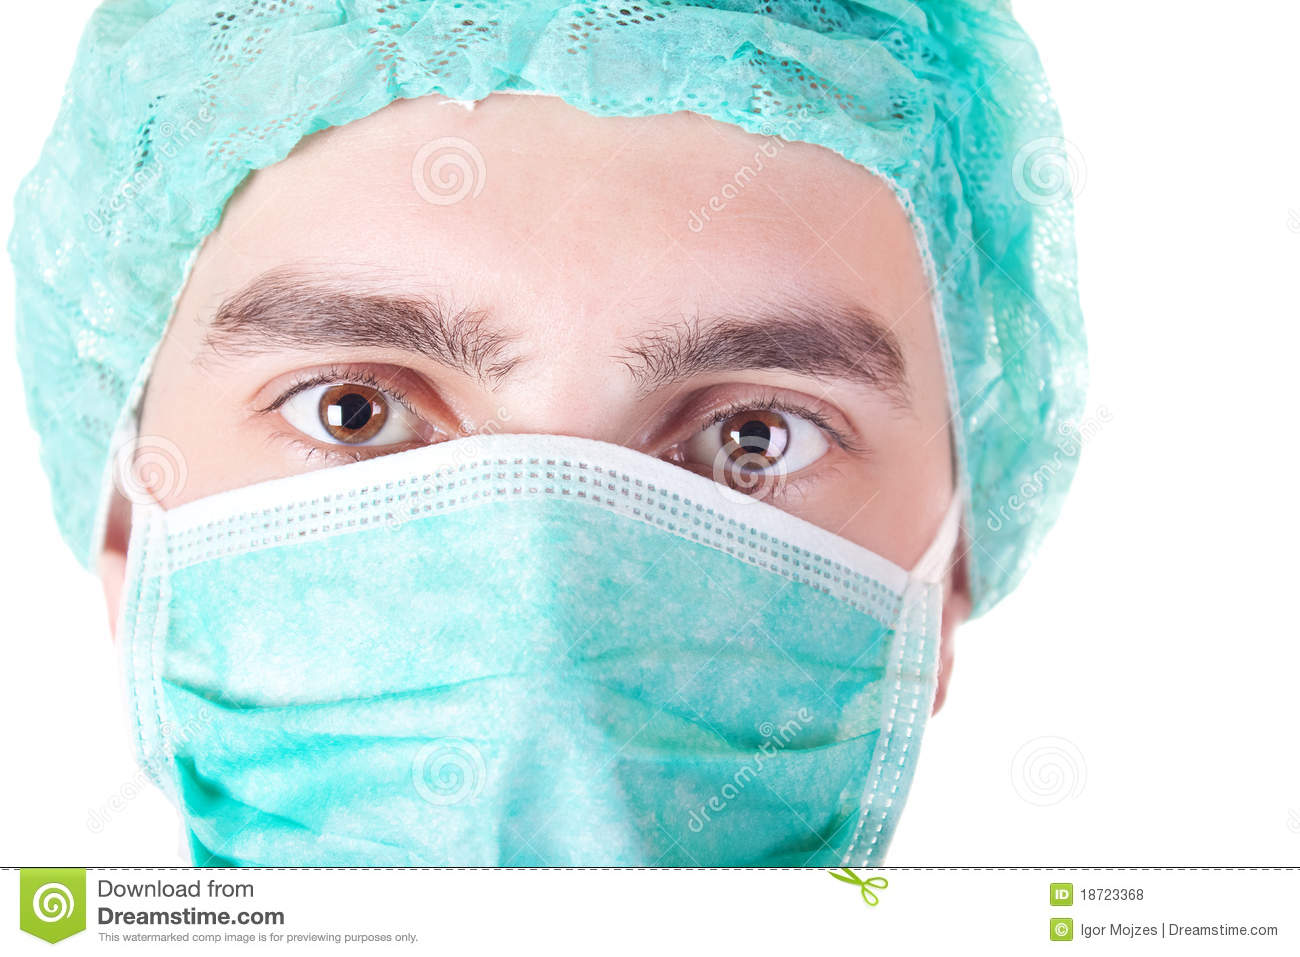mask: (115, 436, 936, 870)
